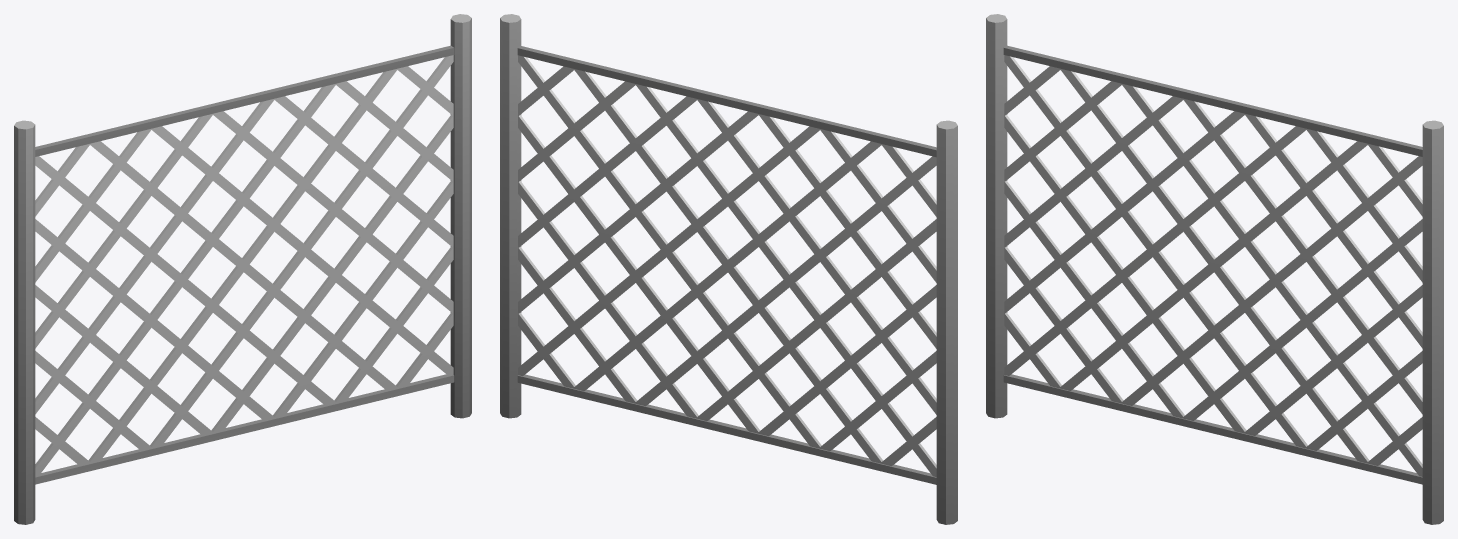
File: mesh fence.fbx
The picture shows the model from 3 angles, left to right: view 1: azimuth 30°, elevation 25°; view 2: azimuth 150°, elevation 25°; view 3: azimuth 330°, elevation 25°; orthographic projection.
Parts seen in each view (by area): view 1: mesh fence; view 2: mesh fence; view 3: mesh fence.
Part boxes in pixels (x1,y1,x2,y2): mesh fence: [14, 14, 471, 524]; mesh fence: [500, 14, 957, 524]; mesh fence: [986, 14, 1443, 524].
Bounding box in the file's own units: 414 × 345 × 15.58.
